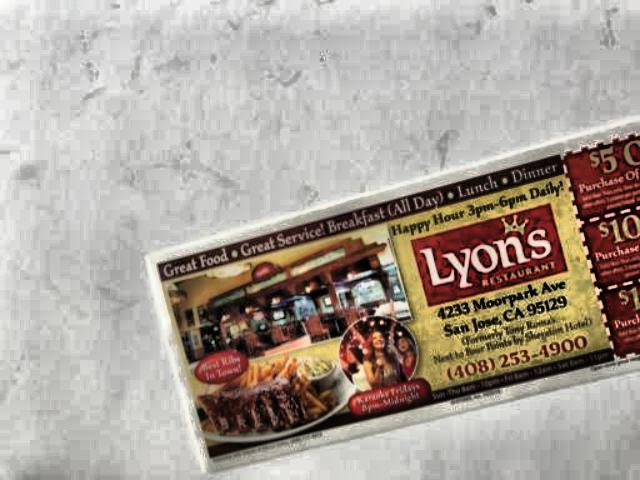Paper: (145, 112, 640, 480)
